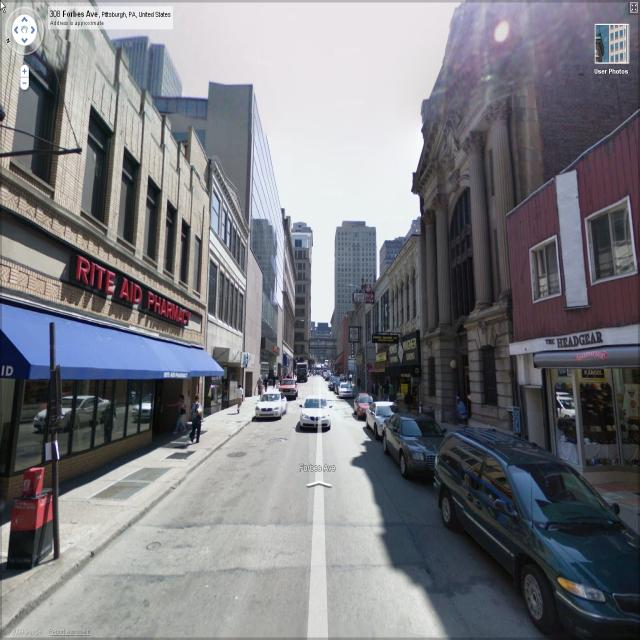b_1: (0, 42, 198, 402), (417, 65, 550, 462), (238, 100, 286, 379), (208, 173, 246, 401), (384, 228, 435, 393), (333, 208, 383, 320), (286, 219, 316, 383), (354, 284, 392, 406), (376, 223, 429, 284), (278, 224, 294, 374)
